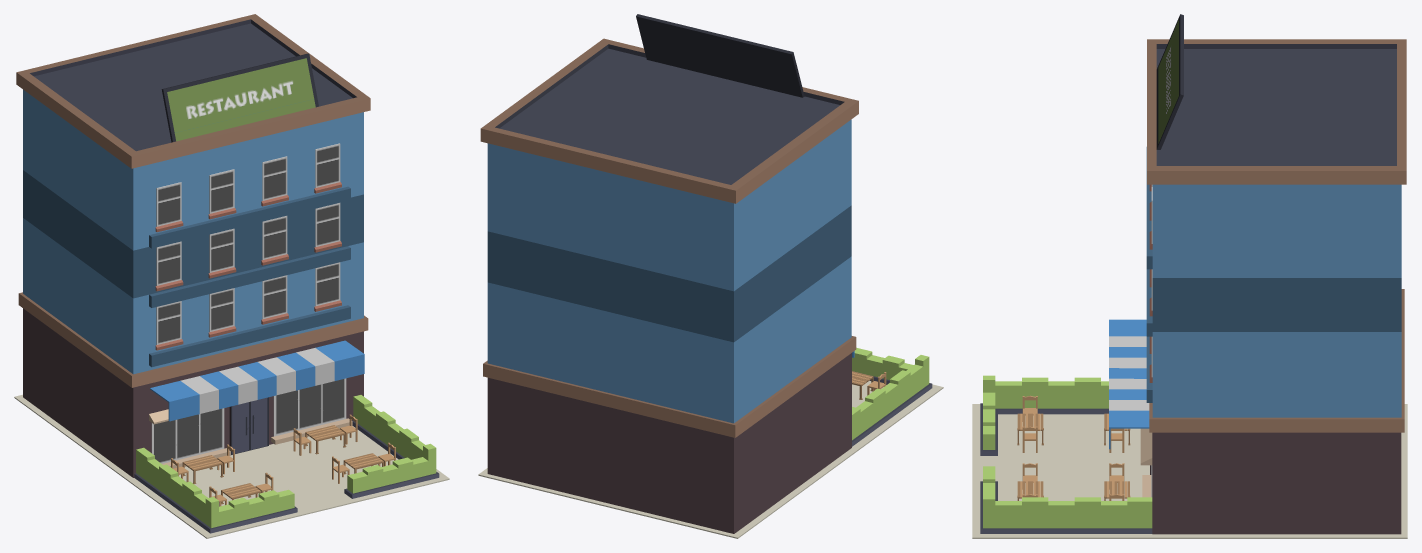
Rendered from bigRestaurant_color02.fbx.
3 views of the same model, side by side, from view 1: azimuth 30°, elevation 25°; view 2: azimuth 150°, elevation 25°; view 3: azimuth 270°, elevation 25° (orthographic). The views are drawn at different scales.
Parts seen in each view (by area): view 1: Plane.076, Cube.049; view 2: Plane.076; view 3: Plane.076.
Part boxes in pixels (bbox=[...]): Plane.076: bbox=[14, 14, 449, 538]; Cube.049: bbox=[293, 414, 357, 455]; Plane.076: bbox=[478, 14, 943, 538]; Plane.076: bbox=[972, 14, 1407, 538].
Bounding box in the file's own units: 1186 × 1728 × 1630.
